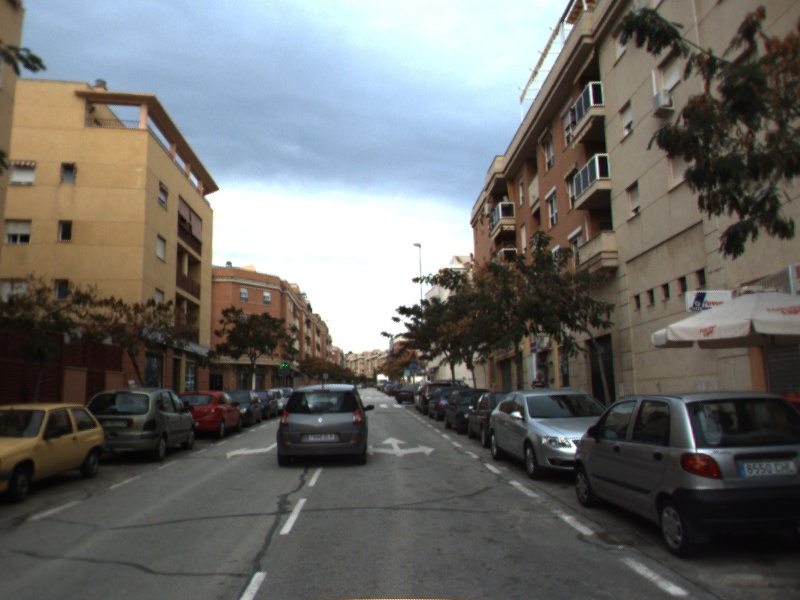STRAIGHT_LEFT_RIGHT: (366, 434, 438, 458)
